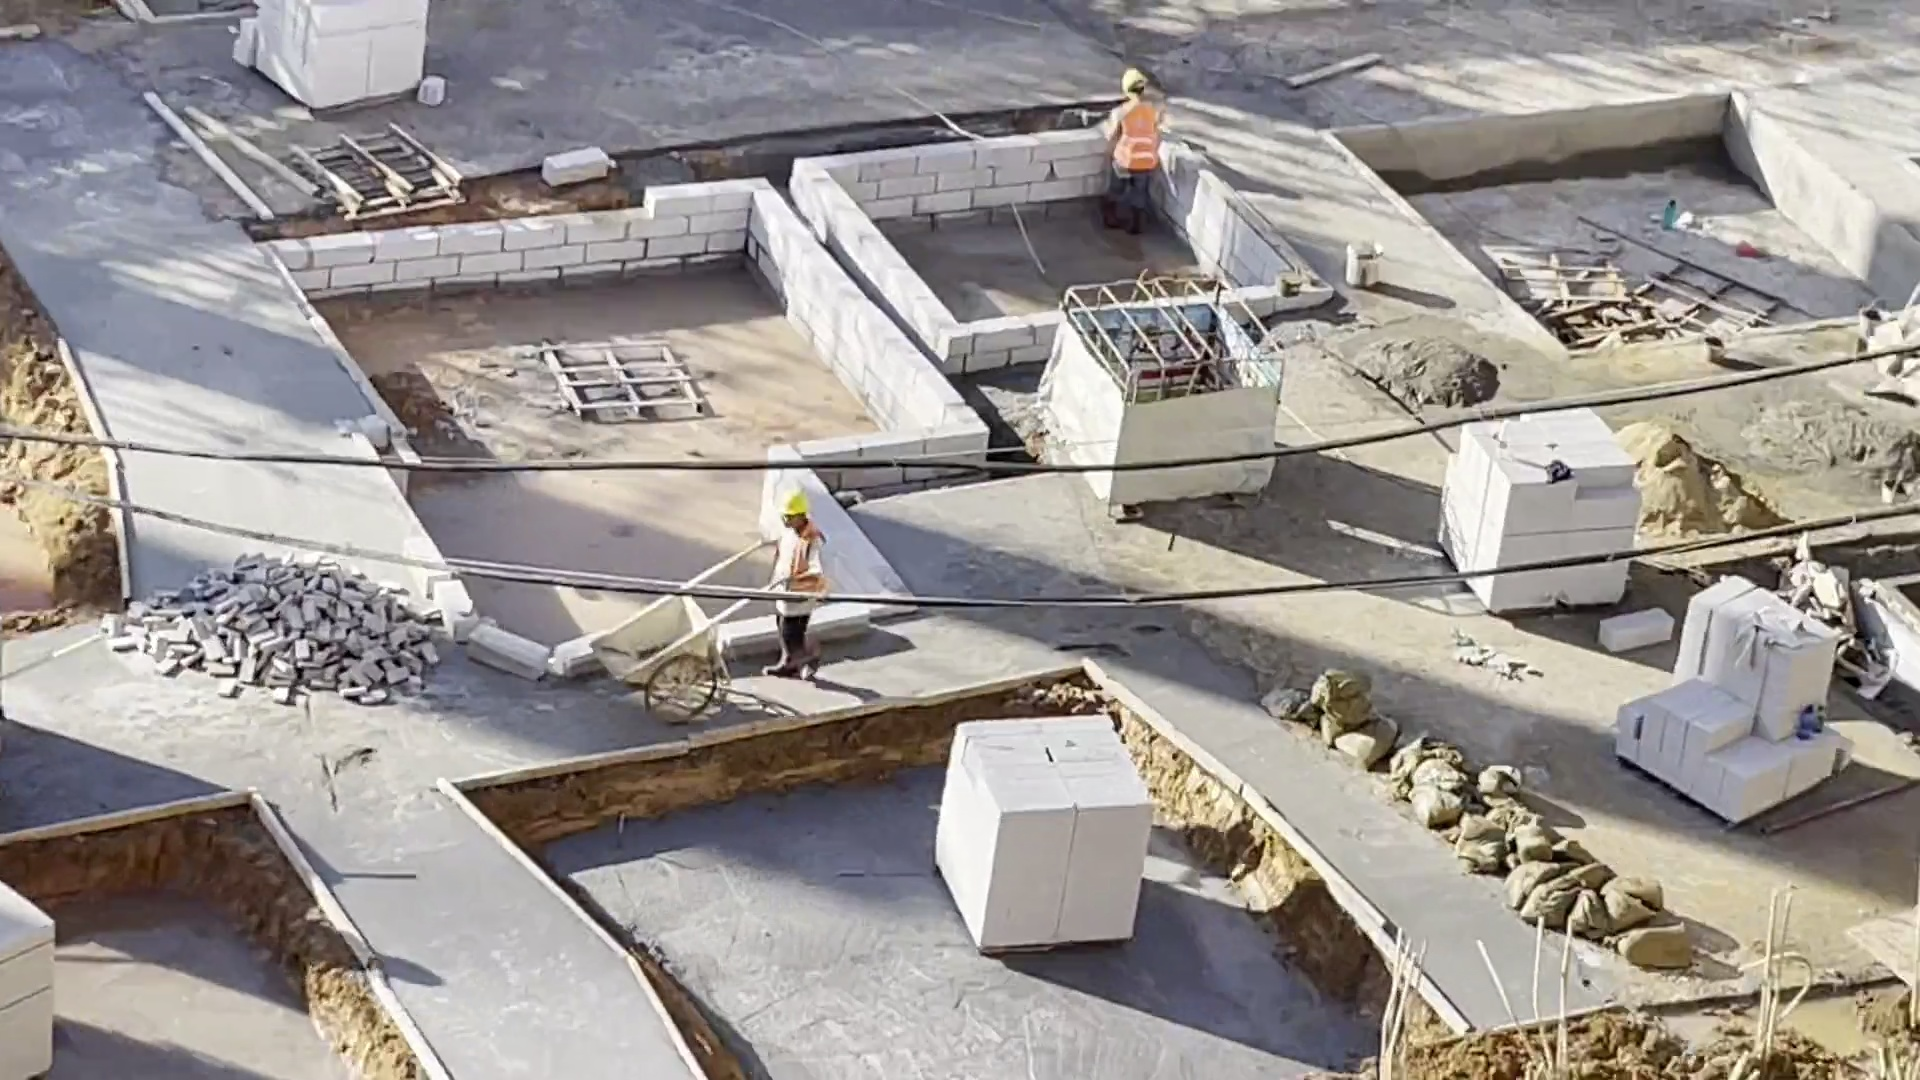brick: (1605, 568, 1862, 826), (926, 709, 1153, 957), (1443, 430, 1639, 572), (247, 6, 432, 112), (4, 894, 69, 1080)
handcart: (604, 593, 740, 730)
helmet: (774, 489, 815, 517), (1119, 69, 1150, 100)
person: (755, 486, 832, 683), (1097, 67, 1162, 238)
vest: (779, 525, 831, 606), (1115, 103, 1161, 171)
